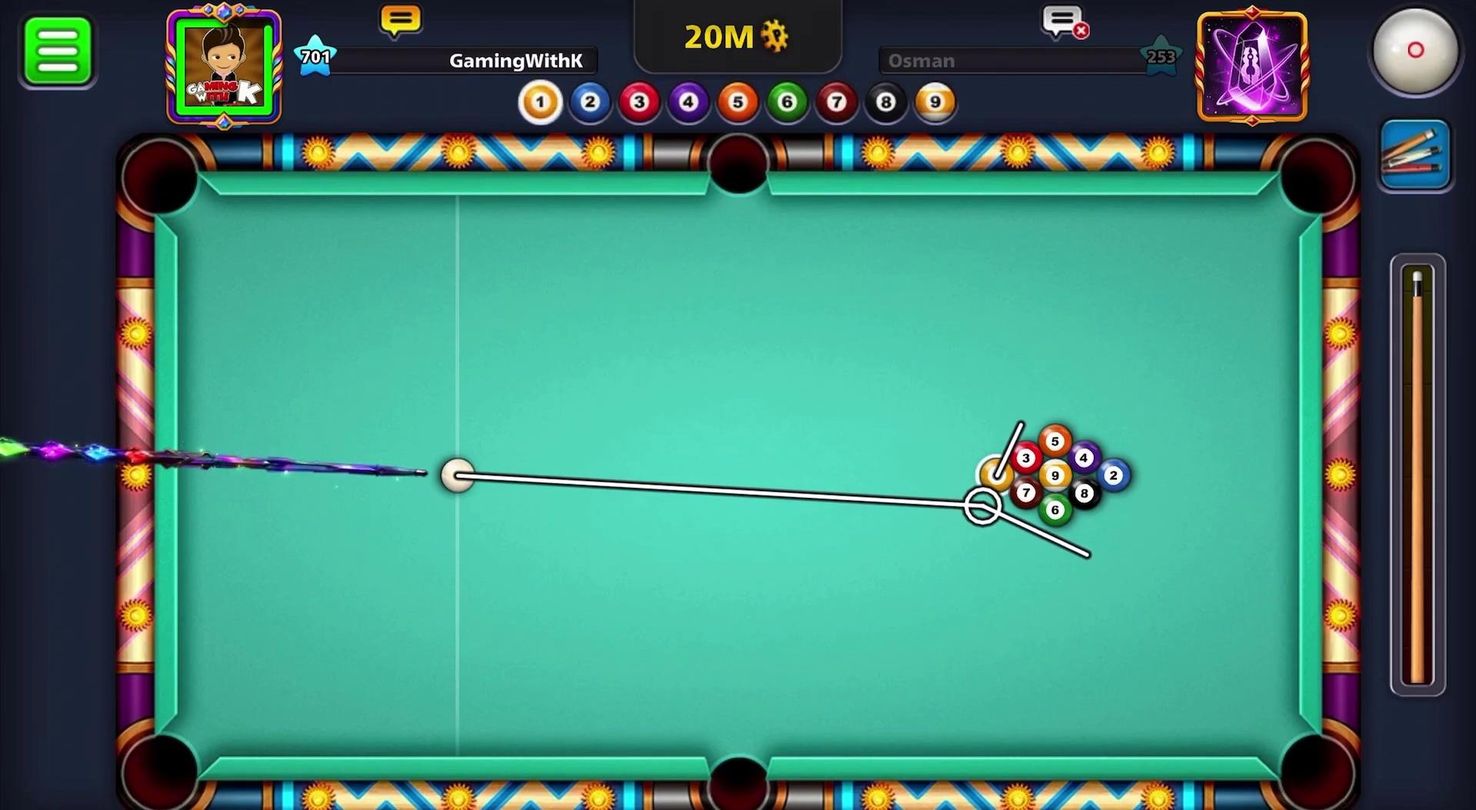Ball: (1007, 435, 1045, 478), (1065, 437, 1105, 476), (978, 453, 1014, 493), (1005, 473, 1042, 511), (1069, 474, 1103, 513), (1038, 493, 1074, 529), (1097, 456, 1132, 493), (1038, 421, 1073, 458), (1038, 456, 1072, 493)
Force: (1388, 253, 1451, 707)
Guideline: (457, 417, 1096, 567)
Hole: (108, 128, 212, 231), (1270, 130, 1364, 231), (1266, 719, 1364, 809), (111, 724, 208, 809), (685, 736, 785, 809), (701, 124, 776, 204)
Play_Area: (181, 194, 1294, 761)
Spin: (1346, 0, 1475, 112)
White: (428, 452, 478, 497)
